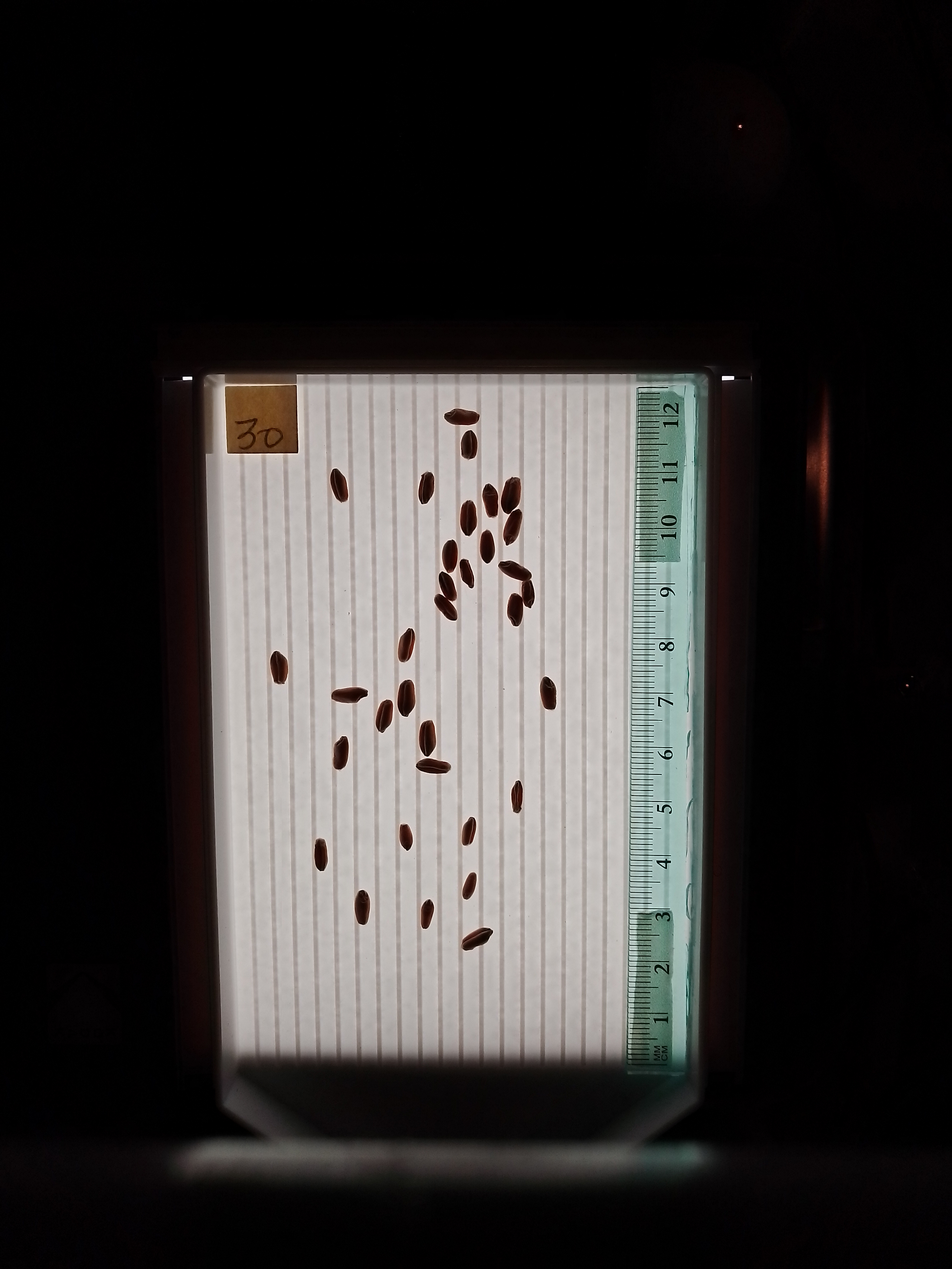seed mask: (501, 477, 521, 513), (462, 928, 492, 951), (499, 560, 530, 581), (330, 469, 349, 503), (504, 510, 522, 545), (332, 686, 367, 704), (398, 680, 415, 716), (419, 720, 436, 756), (270, 652, 288, 684), (398, 629, 415, 662), (540, 677, 557, 710), (417, 758, 450, 775), (354, 891, 371, 924), (446, 408, 478, 425), (442, 540, 459, 572), (376, 700, 393, 732), (333, 737, 349, 770), (418, 473, 435, 504), (507, 595, 523, 627), (461, 501, 476, 535), (435, 596, 456, 620), (483, 485, 499, 516), (479, 532, 495, 563), (461, 431, 477, 460), (439, 573, 456, 600), (314, 839, 328, 871), (460, 559, 474, 588), (420, 901, 434, 929), (462, 818, 476, 845), (399, 824, 413, 851), (521, 581, 535, 607), (511, 782, 523, 812), (463, 873, 476, 899)
